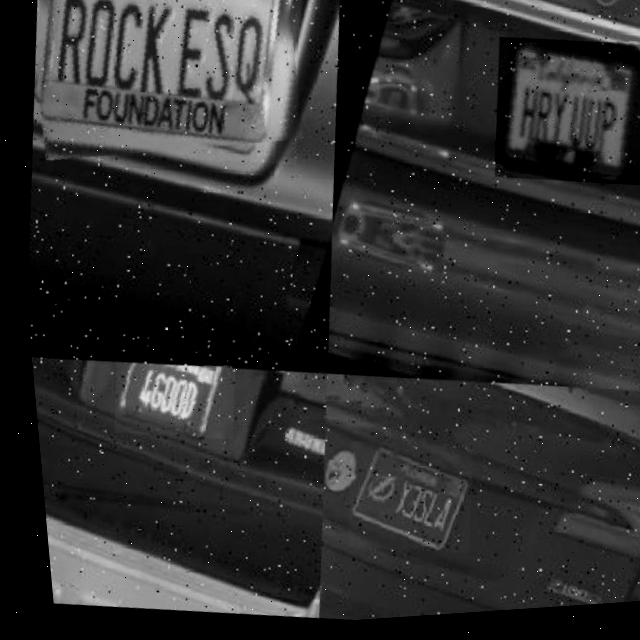LicensePlate: (18, 0, 315, 182), (481, 35, 640, 201), (339, 447, 461, 557), (101, 356, 233, 448)
